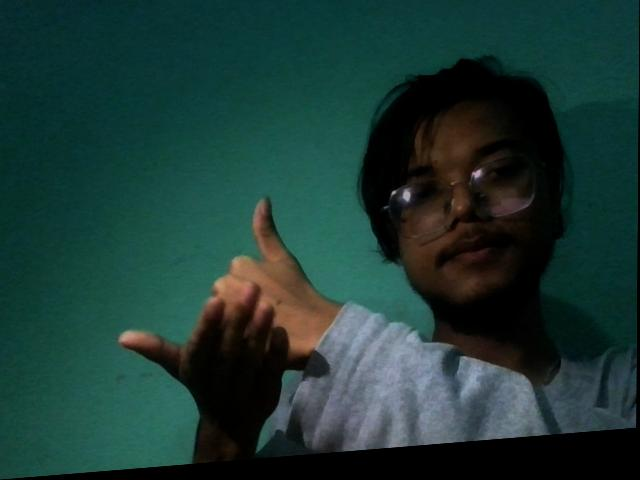help: (107, 189, 363, 449)
